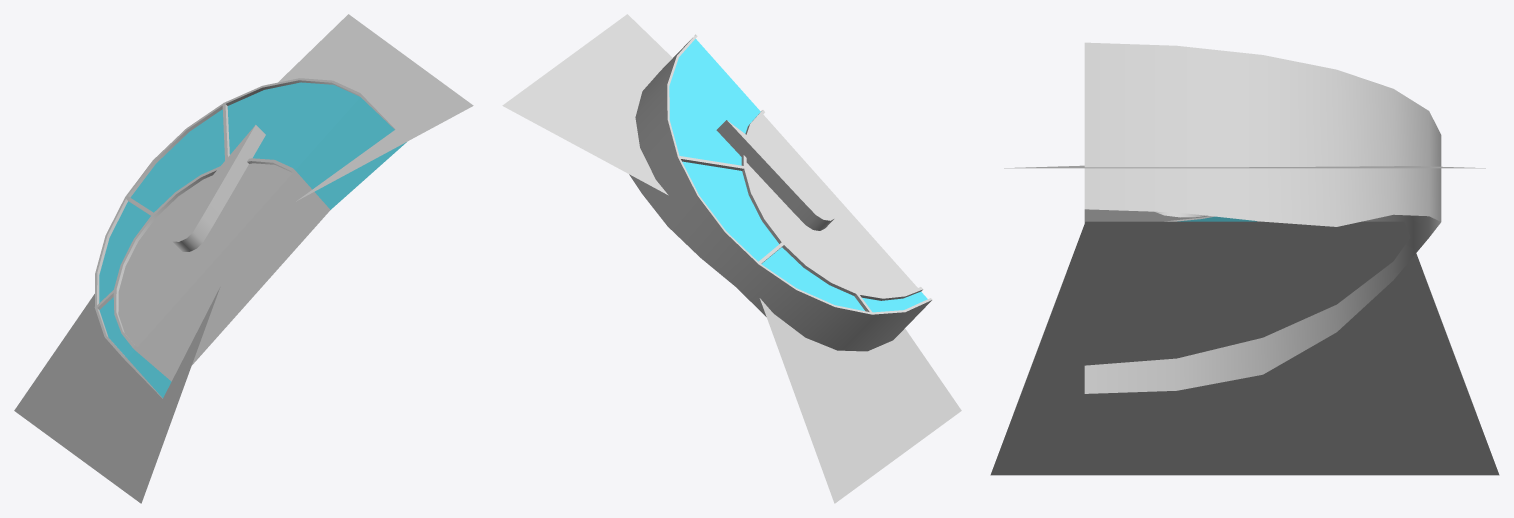
The model's file is Mod_Pauldron_R_Mirage3.fbx.
3 views of the same model, side by side, from view 1: azimuth 30°, elevation 25°; view 2: azimuth 150°, elevation 25°; view 3: azimuth 270°, elevation 25° (orthographic). The views are drawn at different scales.
Parts seen in each view (by area): view 1: Mod_Pauldron_R_Mirage3; view 2: Mod_Pauldron_R_Mirage3; view 3: Mod_Pauldron_R_Mirage3.
Part boxes in pixels (box(x1,y1,x2,y2)): Mod_Pauldron_R_Mirage3: box(14, 14, 473, 503); Mod_Pauldron_R_Mirage3: box(502, 14, 961, 503); Mod_Pauldron_R_Mirage3: box(990, 42, 1499, 475).
Bounding box in the file's own units: 218 × 209 × 144.
